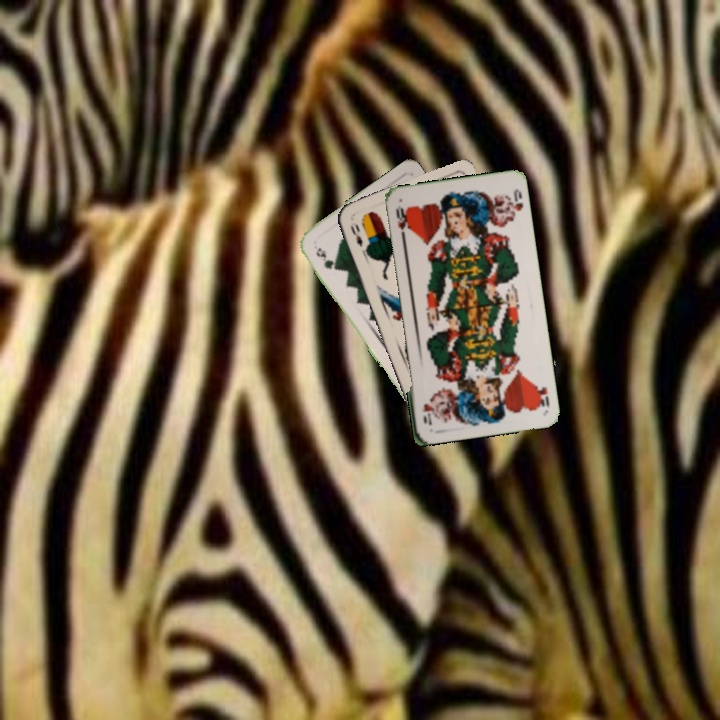EO: (346, 220, 365, 249)
G9: (312, 243, 339, 273)
HO: (531, 379, 552, 410), (392, 202, 408, 241)
